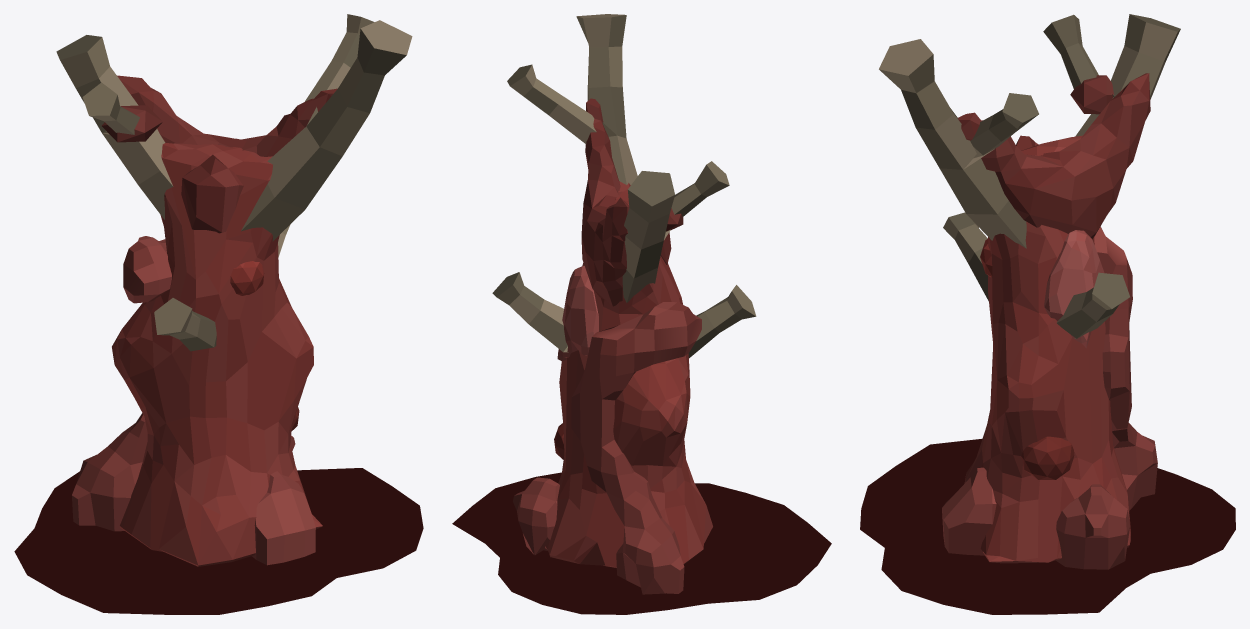
Rendered from Brother_Meat_Tree.glb.
3 renders of one model, left to right at view 1: azimuth 30°, elevation 25°; view 2: azimuth 150°, elevation 25°; view 3: azimuth 270°, elevation 25°, orthographic. The views are drawn at different scales.
Parts seen in each view (by area): view 1: Sister_Meat, Sister_BloodPool, Sister_Bones, Sister_LightMeat, Sister_DarkMeat.002, Sister_DarkMeat_BoneHug, Sister_DarkMeat_Fork, Sister_DarkGlob.001; view 2: Sister_BloodPool, Sister_Meat, Sister_LightMeat, Sister_Bones, Sister_DarkMeat.002, Sister_BrightMeat; view 3: Sister_Meat, Sister_BloodPool, Sister_Bones, Sister_LightMeat, Sister_DarkMeat.002, Sister_BrightMeat, Sister_DarkGlob, Sister_DarkMeat_Fork.
Part boxes in pixels (left/top/right/bottom): Sister_Meat: left=112, top=143, right=322, bottom=566; Sister_BloodPool: left=14, top=468, right=423, bottom=614; Sister_Bones: left=56, top=14, right=412, bottom=351; Sister_LightMeat: left=72, top=236, right=315, bottom=565; Sister_DarkMeat.002: left=117, top=75, right=337, bottom=156; Sister_DarkMeat_BoneHug: left=181, top=154, right=243, bottom=233; Sister_DarkMeat_Fork: left=101, top=105, right=162, bottom=142; Sister_DarkGlob.001: left=230, top=261, right=264, bottom=295; Sister_BloodPool: left=452, top=472, right=831, bottom=614; Sister_Meat: left=545, top=181, right=712, bottom=567; Sister_LightMeat: left=513, top=302, right=701, bottom=594; Sister_Bones: left=492, top=14, right=756, bottom=358; Sister_DarkMeat.002: left=581, top=98, right=629, bottom=306; Sister_BrightMeat: left=557, top=265, right=598, bottom=361; Sister_Meat: left=964, top=135, right=1130, bottom=563; Sister_BloodPool: left=860, top=439, right=1235, bottom=614; Sister_Bones: left=879, top=14, right=1180, bottom=338; Sister_LightMeat: left=942, top=226, right=1157, bottom=569; Sister_DarkMeat.002: left=957, top=73, right=1150, bottom=239; Sister_BrightMeat: left=1044, top=230, right=1104, bottom=348; Sister_DarkGlob: left=1021, top=436, right=1074, bottom=479; Sister_DarkMeat_Fork: left=1070, top=75, right=1113, bottom=114.
Size of the model in its own units: 1.7 by 2.39 by 1.51.
